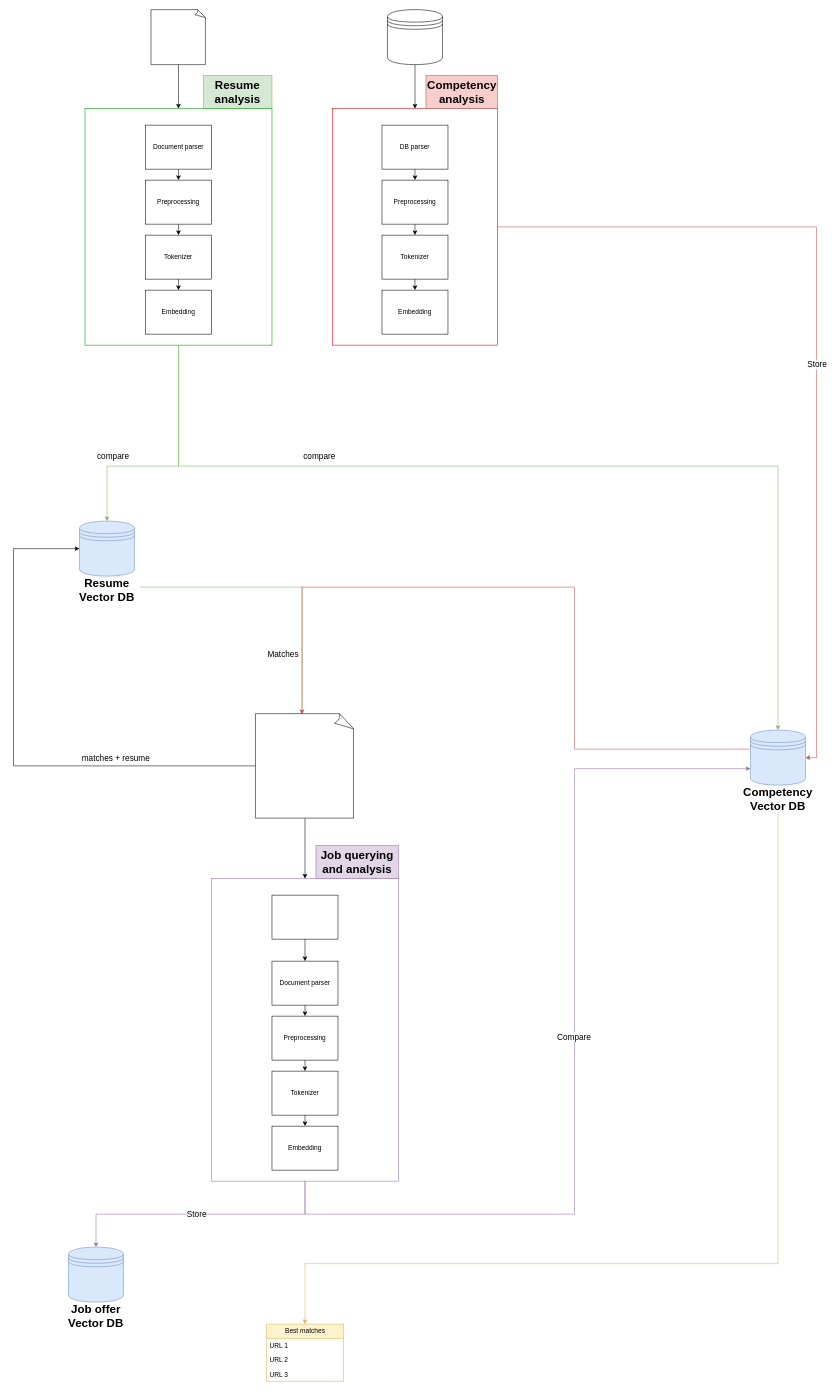
This 836x1393 diagram has some shape labels left out. The centre of each missing label's shape, as x and y in pixels:
Comp. DB: point (414, 37)
Google jobs query: point (304, 917)
Report: General competencies + relevant fields: point (304, 765)
Resume: point (178, 37)
